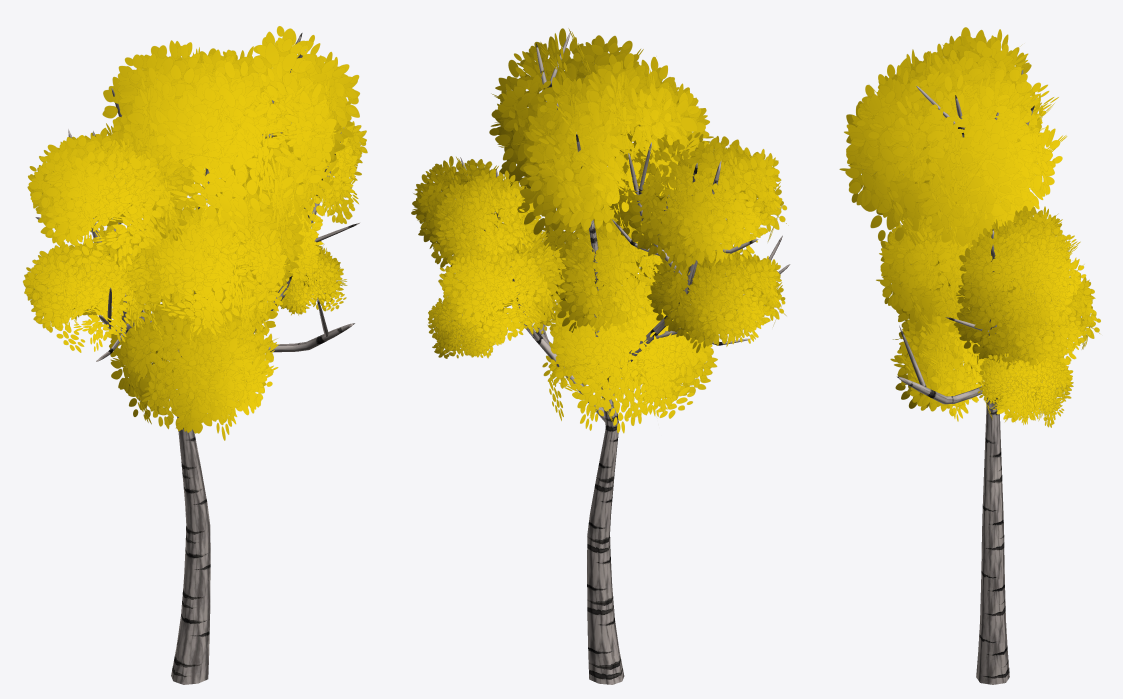
The model's file is quaternius-nature-birch-3.glb.
3 views of the same model, side by side, from view 1: azimuth 30°, elevation 25°; view 2: azimuth 150°, elevation 25°; view 3: azimuth 270°, elevation 25° (orthographic). The views are drawn at different scales.
Parts seen in each view (by area): view 1: BirchTree_3; view 2: BirchTree_3; view 3: BirchTree_3.
Boxes of the visible parts, left/top/right/bottom form: BirchTree_3: left=23, top=26, right=367, bottom=684; BirchTree_3: left=411, top=28, right=790, bottom=684; BirchTree_3: left=839, top=27, right=1100, bottom=684.
Bounding box in the file's own units: 3.43 × 5.75 × 2.27.
Materials: 2 (2 with a texture image).
